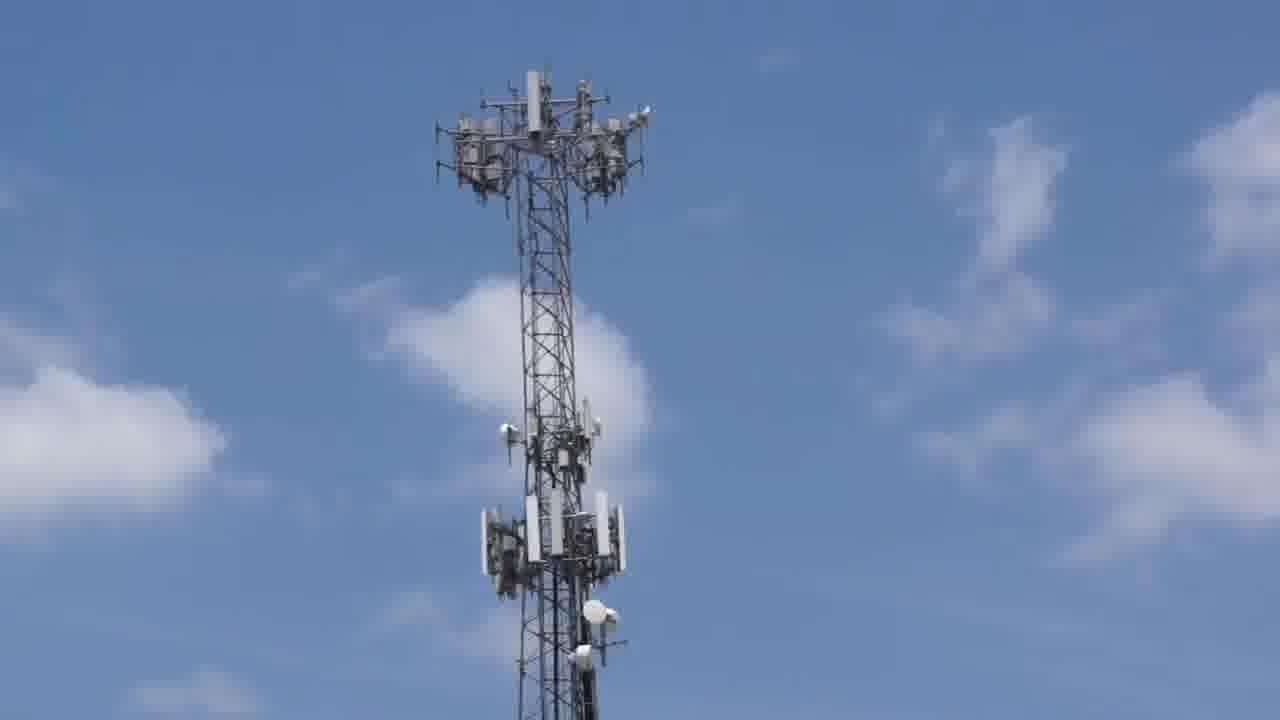Microwave Antenna: (621, 107, 660, 136), (569, 643, 596, 675), (497, 421, 524, 452), (583, 597, 606, 627), (602, 605, 623, 636), (586, 419, 605, 439)
antenna: (607, 497, 633, 585), (519, 487, 546, 568), (589, 485, 613, 570), (543, 482, 568, 559), (478, 507, 503, 577), (523, 66, 543, 141)
